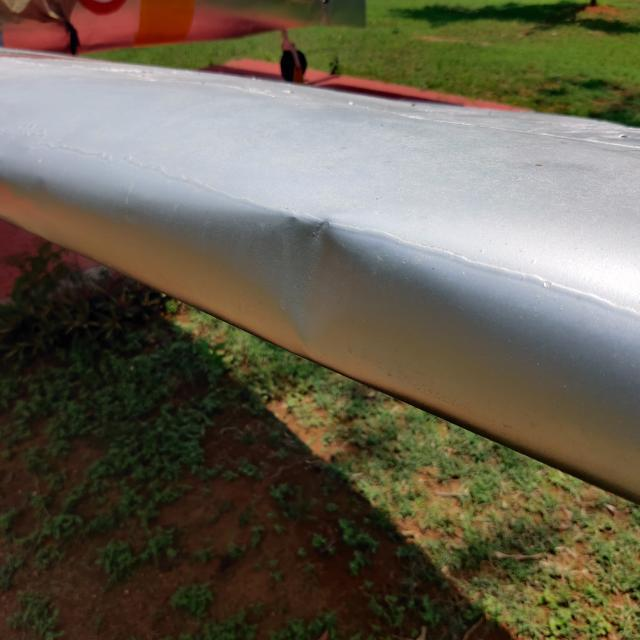dent: (250, 199, 368, 357)
